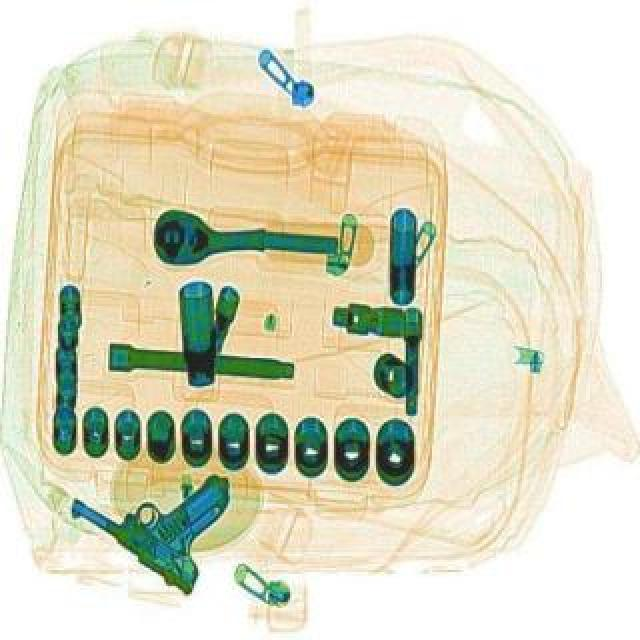gun: (58, 418, 262, 596)
